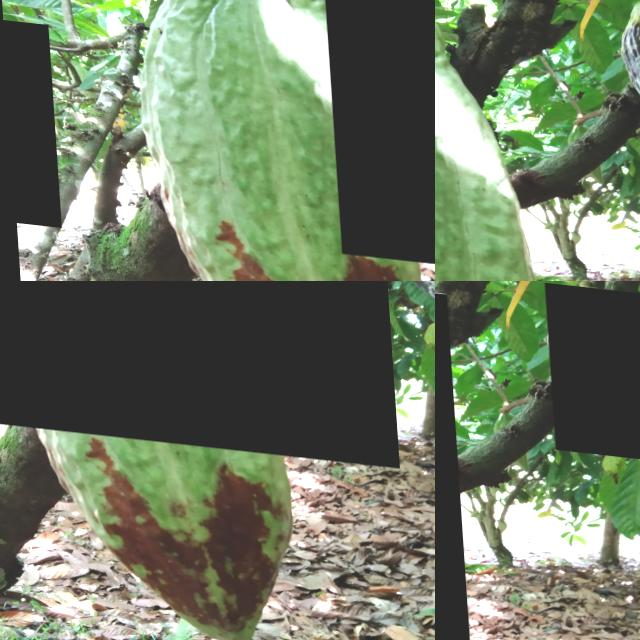Fitoftora: (322, 0, 435, 260), (0, 20, 56, 227)
Monilia: (0, 281, 394, 456), (544, 281, 640, 449)
